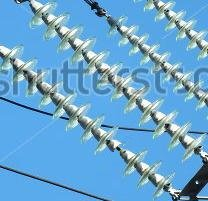gap: (93, 123, 150, 179)
